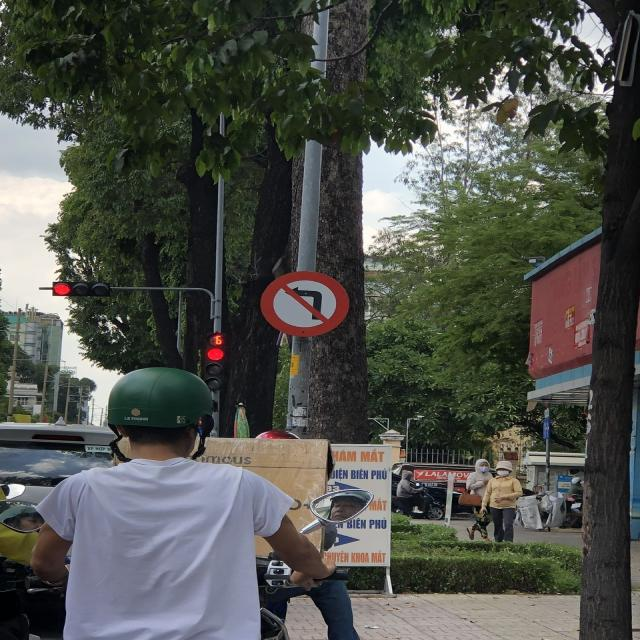Bien bao cam re trai: (257, 267, 355, 339)
